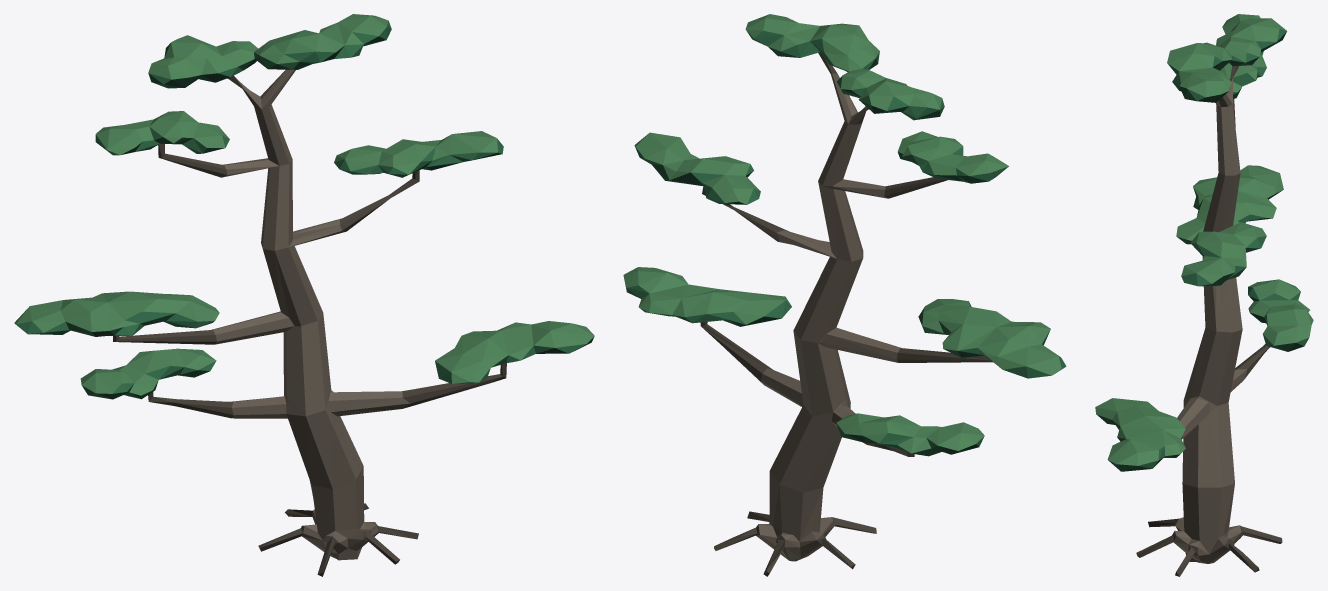
File: ancient-pine-1997-lod2.glb
3 views of the same model, side by side, from view 1: azimuth 30°, elevation 25°; view 2: azimuth 150°, elevation 25°; view 3: azimuth 270°, elevation 25° (orthographic). The views are drawn at different scales.
Parts seen in each view (by area): view 1: n12.006, n8.006, n9.006, n11.006, n10.006; view 2: n12.006, n8.006, n9.006, n11.006, n10.006; view 3: n12.006, n8.006, n11.006, n9.006, n10.006.
Part boxes in pixels (left/top/right/bottom): n12.006: left=14, top=14, right=594, bottom=395; n8.006: left=211, top=69, right=410, bottom=560; n9.006: left=113, top=75, right=506, bottom=576; n11.006: left=16, top=21, right=586, bottom=395; n10.006: left=28, top=36, right=594, bottom=399; n12.006: left=623, top=14, right=1061, bottom=453; n8.006: left=756, top=73, right=900, bottom=561; n9.006: left=700, top=52, right=992, bottom=576; n11.006: left=624, top=30, right=1066, bottom=448; n10.006: left=626, top=30, right=1064, bottom=456; n12.006: left=1095, top=14, right=1313, bottom=465; n8.006: left=1173, top=66, right=1247, bottom=563; n11.006: left=1096, top=29, right=1308, bottom=468; n9.006: left=1136, top=66, right=1282, bottom=576; n10.006: left=1107, top=32, right=1303, bottom=471.
Bounding box in the file's own units: 5.36 × 5.43 × 2.17.
